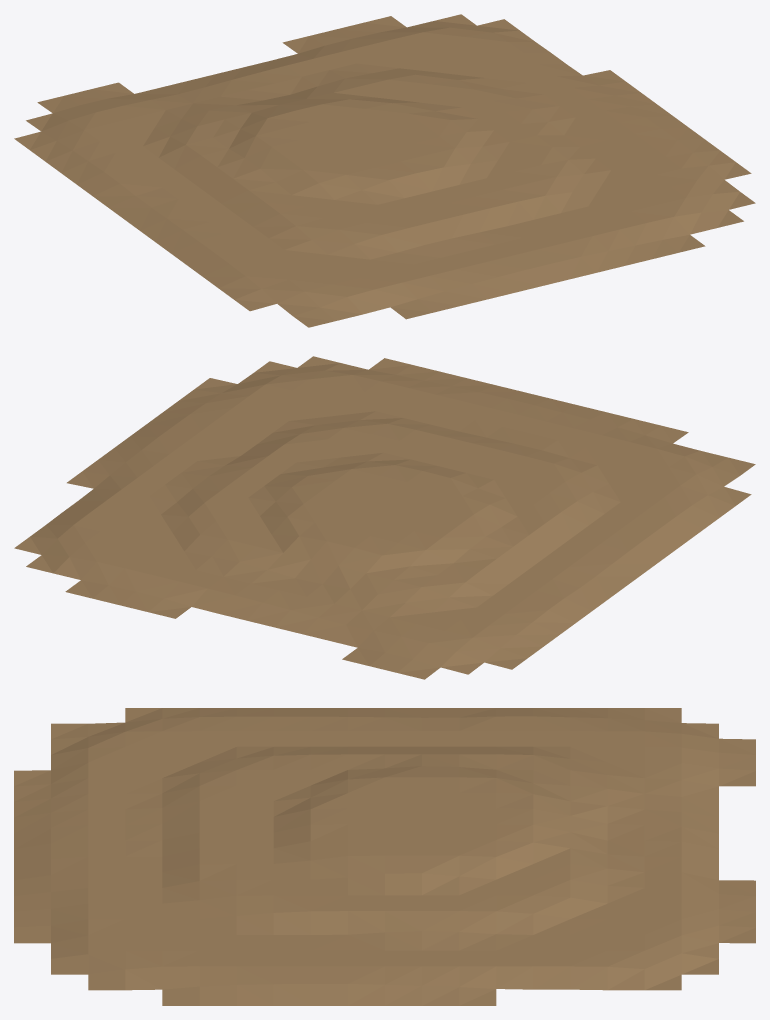
The model's file is SM_Env_GroundMounds_10.fbx.
The picture shows the model from 3 angles, top to bottom: view 1: azimuth 30°, elevation 25°; view 2: azimuth 150°, elevation 25°; view 3: azimuth 270°, elevation 25°; orthographic projection. The views are drawn at different scales.
Visible parts, largest first — view 1: SM_Env_GroundMounds_10; view 2: SM_Env_GroundMounds_10; view 3: SM_Env_GroundMounds_10.
Boxes of the visible parts, x1,y1,x2,y2 form: SM_Env_GroundMounds_10: (14,14,755,327); SM_Env_GroundMounds_10: (14,356,755,679); SM_Env_GroundMounds_10: (14,708,755,1005).
Bounding box in the file's own units: 0.0774 × 0.003 × 0.0814.
1 material, 1 textured.
